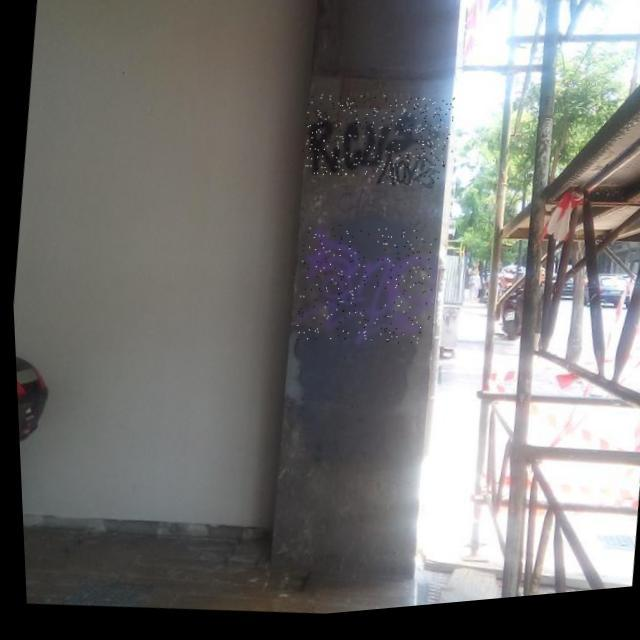-: (286, 220, 439, 362), (296, 88, 458, 198), (372, 152, 438, 198)
